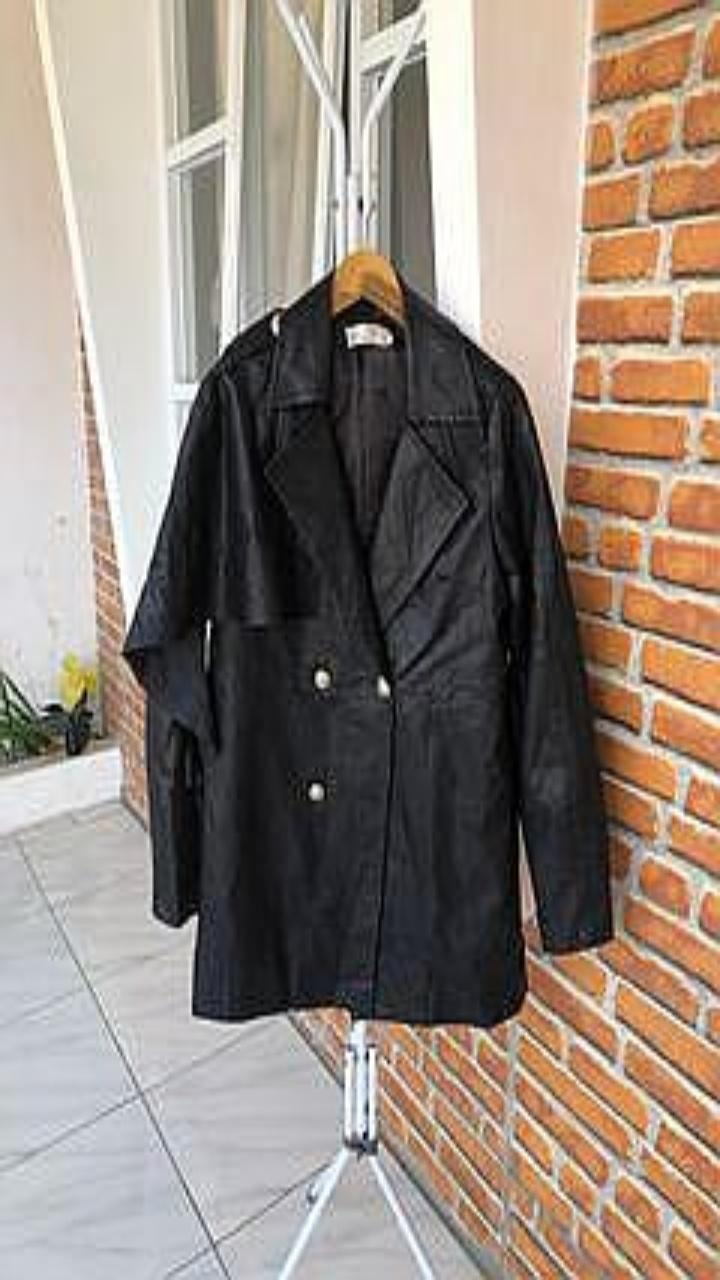Coat: (122, 272, 612, 1025)
